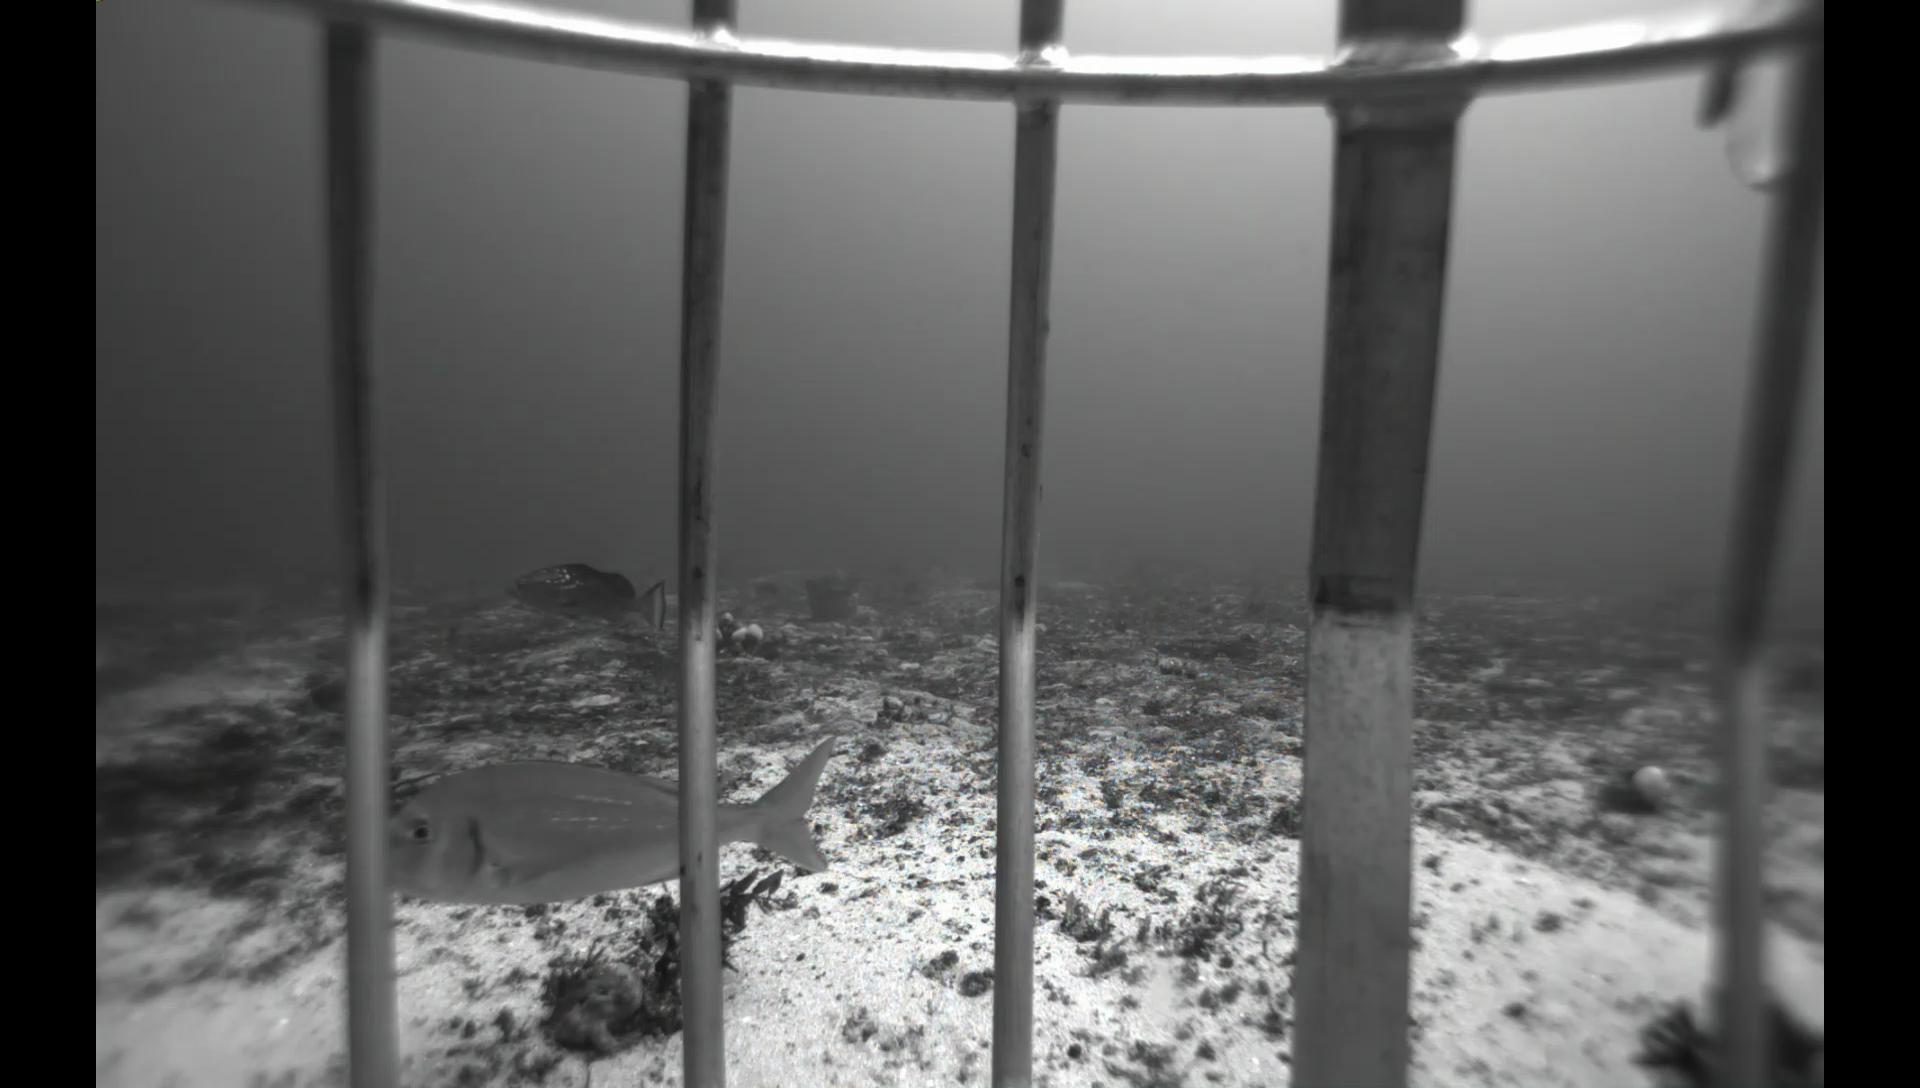CHAETODONOCELLATUS-170260307: (923, 560, 945, 582), (829, 564, 853, 582)
EPINEPHELUSMORIO-170021211: (498, 559, 674, 637)
PAGRUSPAGRUS-170212302: (384, 721, 851, 913)
PRISTIGENYSALTA-170050401: (305, 670, 347, 719)
